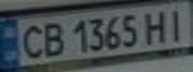1: (66, 16, 90, 54)
3: (84, 15, 106, 52)
5: (121, 10, 145, 48)
6: (103, 12, 127, 51)
B: (36, 19, 69, 57)
C: (12, 21, 48, 61)
H: (139, 7, 172, 44)
I: (160, 4, 193, 42)
